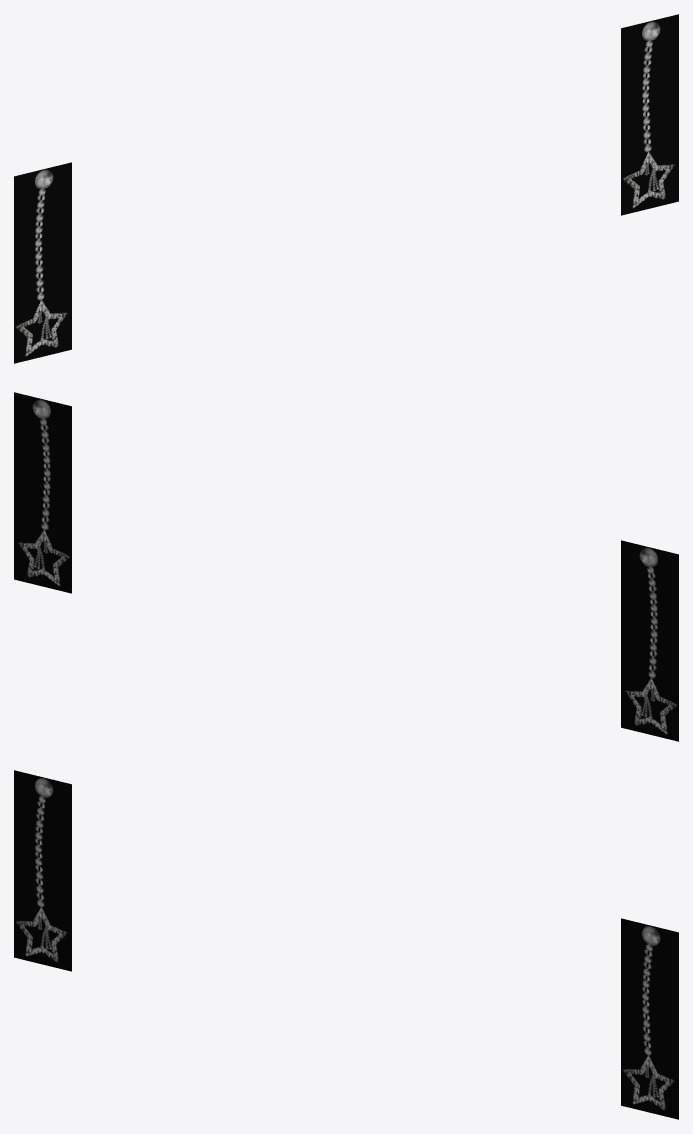
Rendered from silver-star-drop.glb.
The picture shows the model from 3 angles, top to bottom: view 1: azimuth 30°, elevation 25°; view 2: azimuth 150°, elevation 25°; view 3: azimuth 330°, elevation 25°; orthographic projection.
Parts seen in each view (by area): view 1: JewelryEarNegativeX, JewelryEarPositiveX; view 2: JewelryEarNegativeX, JewelryEarPositiveX; view 3: JewelryEarNegativeX, JewelryEarPositiveX.
Part boxes in pixels (x1,y1,x2,y2): JewelryEarNegativeX: (14, 162, 71, 363); JewelryEarPositiveX: (621, 14, 678, 215); JewelryEarNegativeX: (621, 540, 678, 741); JewelryEarPositiveX: (14, 392, 71, 593); JewelryEarNegativeX: (14, 770, 71, 971); JewelryEarPositiveX: (621, 918, 678, 1119).
Size of the model in its own units: 0.1709 by 0.046 by 0.
1 material, 1 textured.
